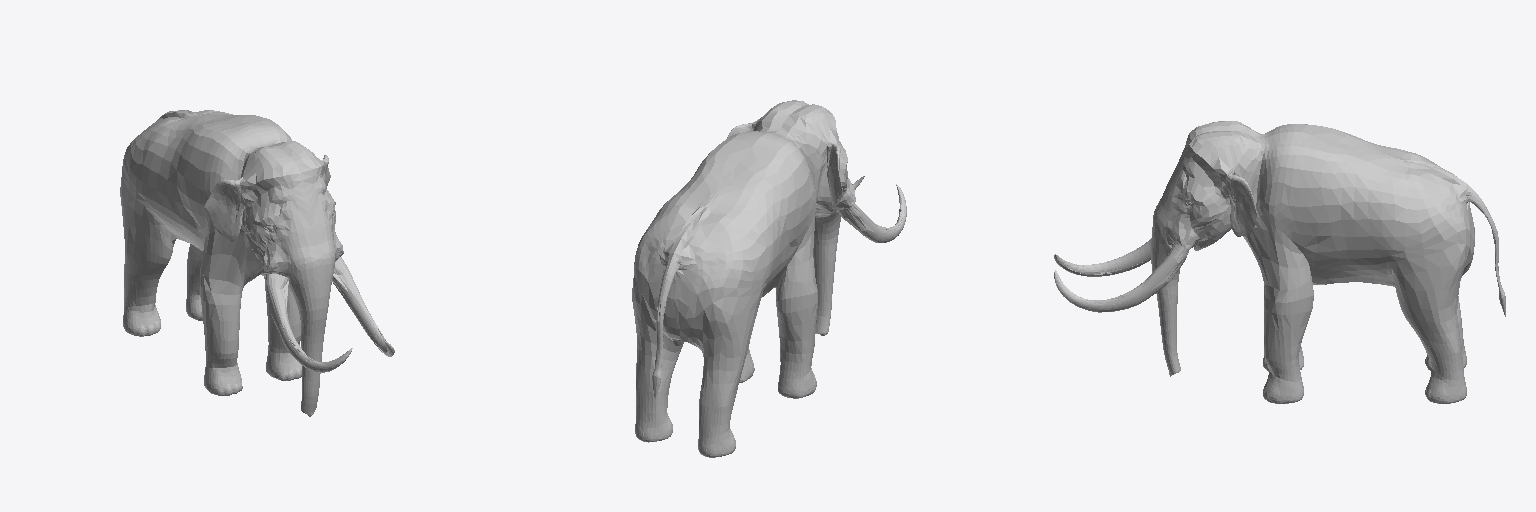
Rendered from mammoth.obj.
3 renders of one model, left to right at view 1: azimuth 30°, elevation 25°; view 2: azimuth 150°, elevation 25°; view 3: azimuth 270°, elevation 25°, orthographic.
Parts seen in each view (by area): view 1: mmth_iris; view 2: mmth_iris; view 3: mmth_iris.
Part boxes in pixels (bbox=[...]): mmth_iris: bbox=[120, 110, 394, 416]; mmth_iris: bbox=[632, 100, 906, 457]; mmth_iris: bbox=[1054, 121, 1505, 403].
Bounding box in the file's own units: 1.39 × 2.67 × 4.28.